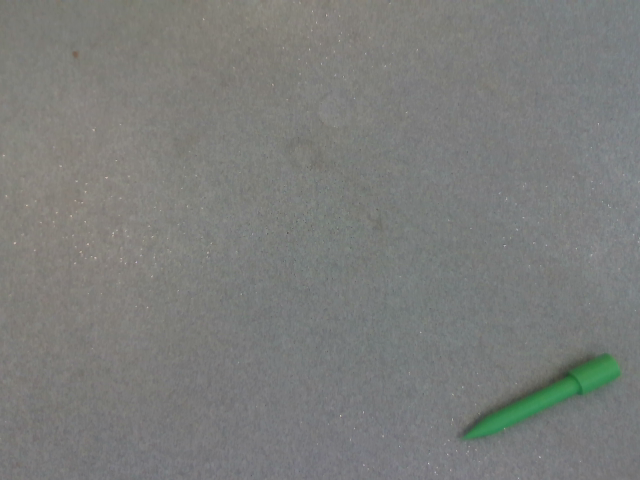Probe: (455, 348, 628, 447)
